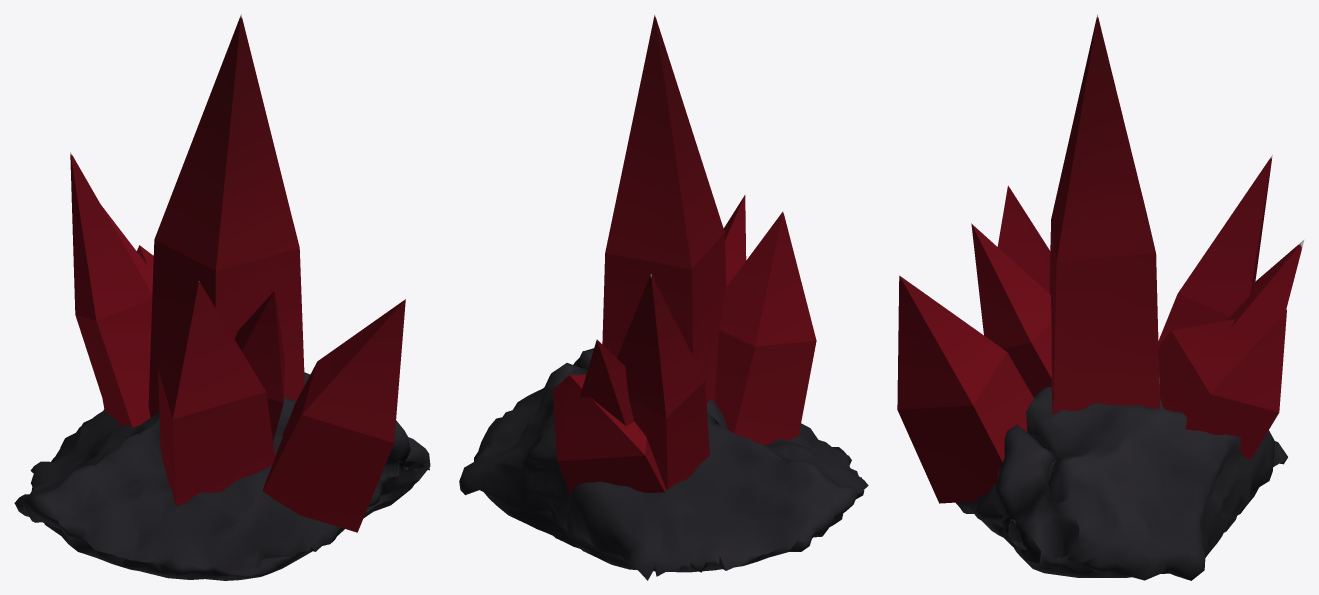
The model's file is cristal_sangre.fbx.
The picture shows the model from 3 angles, left to right: view 1: azimuth 30°, elevation 25°; view 2: azimuth 150°, elevation 25°; view 3: azimuth 270°, elevation 25°; orthographic projection. The views are drawn at different scales.
Parts seen in each view (by area): view 1: cristal_sangre_cristal, cristal_sangre; view 2: cristal_sangre_cristal, cristal_sangre; view 3: cristal_sangre_cristal, cristal_sangre.
Part boxes in pixels (x1,y1,x2,y2): cristal_sangre_cristal: [70, 14, 405, 532]; cristal_sangre: [14, 372, 430, 580]; cristal_sangre_cristal: [552, 14, 816, 496]; cristal_sangre: [459, 348, 868, 580]; cristal_sangre_cristal: [897, 14, 1304, 503]; cristal_sangre: [956, 387, 1287, 580].
Size of the model in its own units: 2.63 by 3.34 by 2.47.
Materials: 3 (3 with a texture image).
